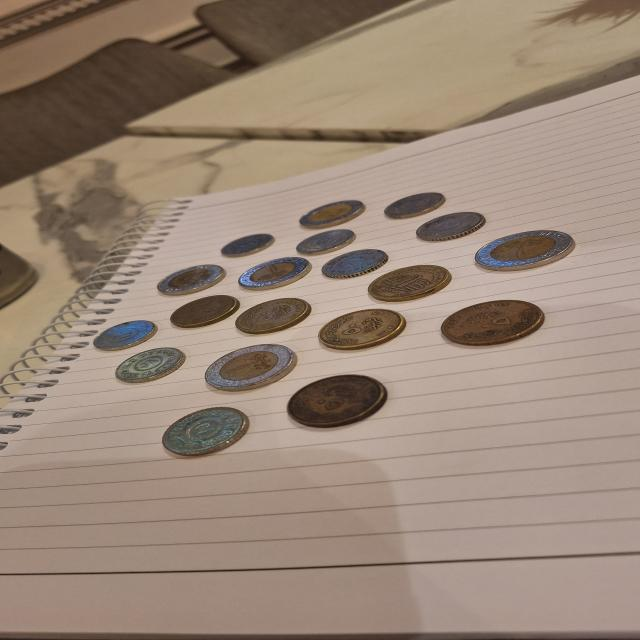Half Pound: (286, 370, 392, 434), (439, 298, 546, 349), (318, 308, 410, 353), (367, 262, 454, 306), (235, 294, 317, 340), (166, 290, 246, 332)
One Pound: (466, 228, 582, 273), (202, 344, 306, 394), (288, 202, 382, 230), (240, 257, 318, 290), (154, 267, 238, 297)
quarter pound: (160, 402, 256, 461), (411, 208, 493, 249), (82, 315, 161, 355), (380, 184, 462, 222), (115, 344, 189, 386), (318, 245, 393, 283), (294, 226, 364, 258), (217, 231, 279, 263)
